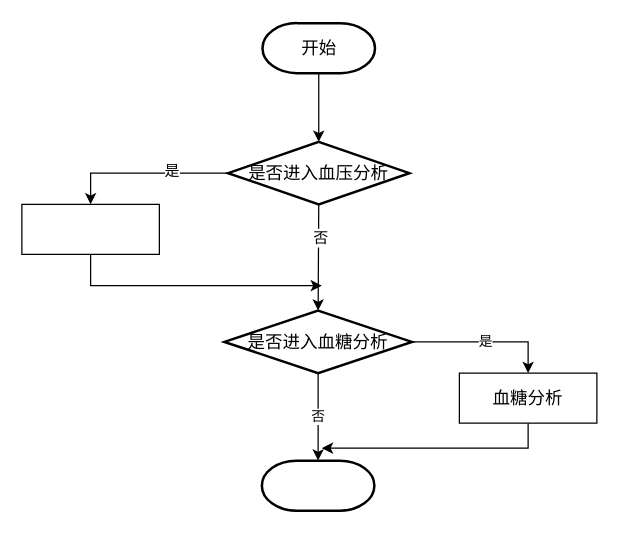
This 619x533 diagram has some shape labels left out. The shapes that lost their labels are listed below. From the top down, each one's centre as x and y in pixels, then its label:
At (90,228): "血压分析".
At (317,485): "结束".
